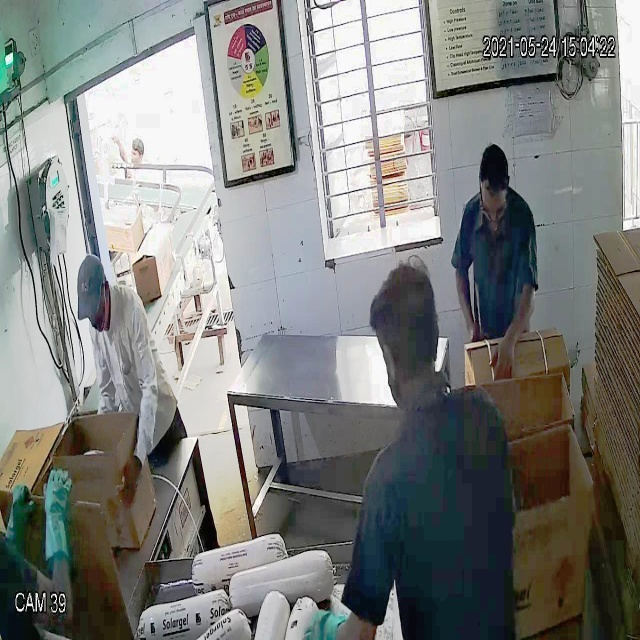Gafas: (478, 193, 511, 223)
